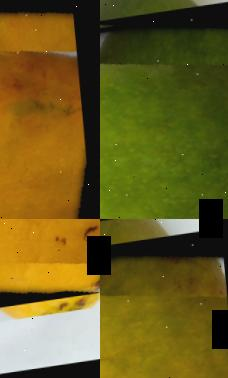PartiallyRipe: (100, 233, 228, 378)
Ripe: (0, 0, 98, 219), (0, 219, 100, 308)
Unripe: (100, 6, 228, 219)
